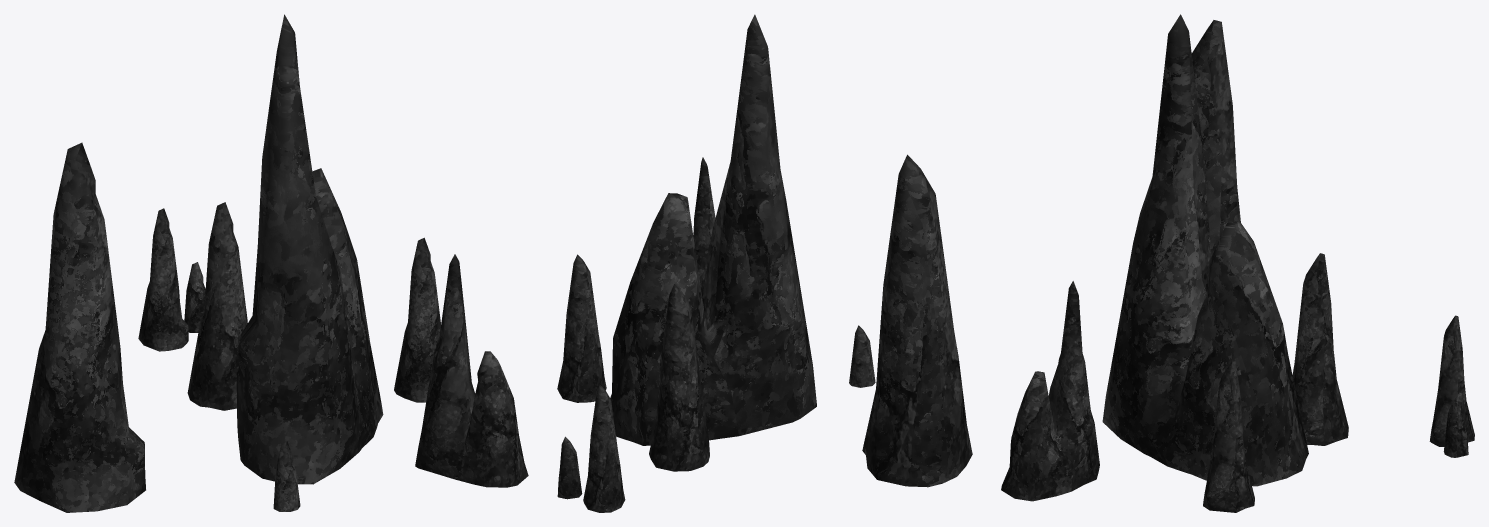
The model's file is shi2.FBX.
3 renders of one model, left to right at view 1: azimuth 30°, elevation 25°; view 2: azimuth 150°, elevation 25°; view 3: azimuth 270°, elevation 25°, orthographic. The views are drawn at different scales.
Parts seen in each view (by area): view 1: stone_07_02; view 2: stone_07_02; view 3: stone_07_02.
Boxes of the visible parts, <box> form: stone_07_02: <box>14,14,528,512</box>; stone_07_02: <box>557,14,972,512</box>; stone_07_02: <box>1001,14,1474,512</box>.
Bounding box in the file's own units: 302 × 294 × 304.
